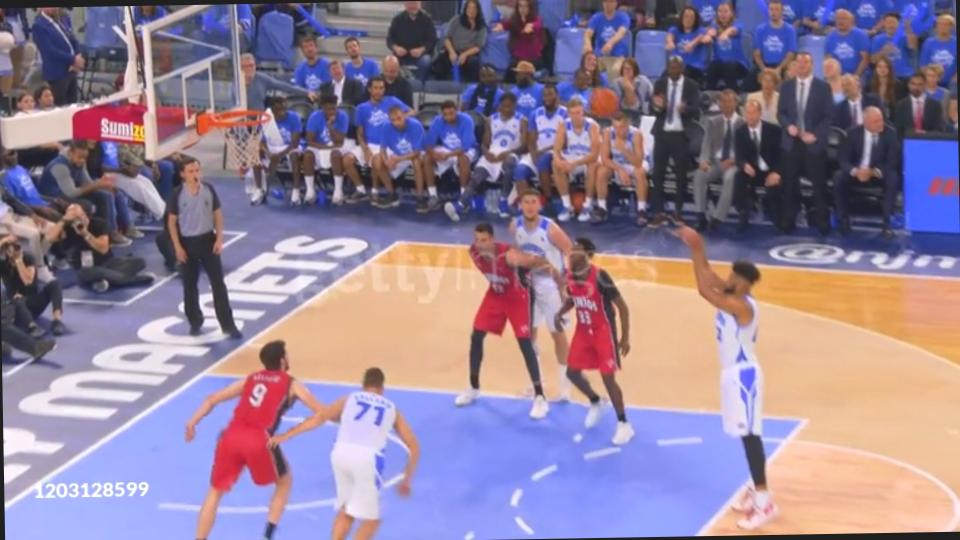hoop: (192, 102, 271, 136)
